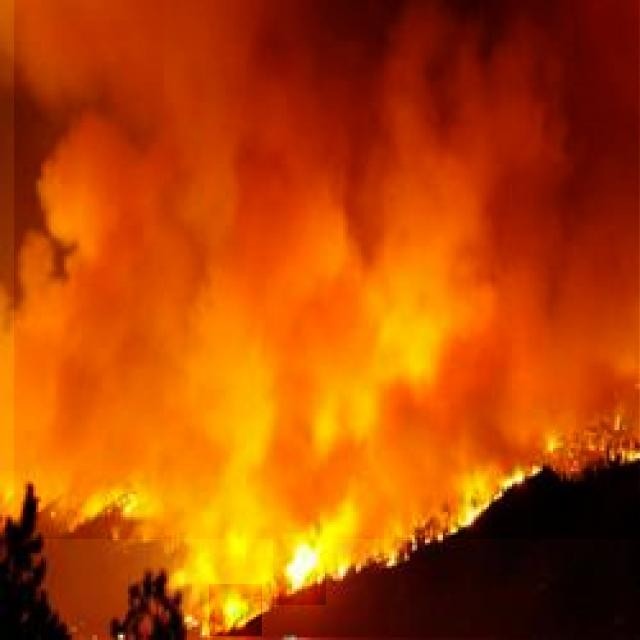Fire: (427, 487, 522, 537), (273, 531, 326, 605), (209, 584, 262, 636)
Smoke: (14, 0, 639, 539)
